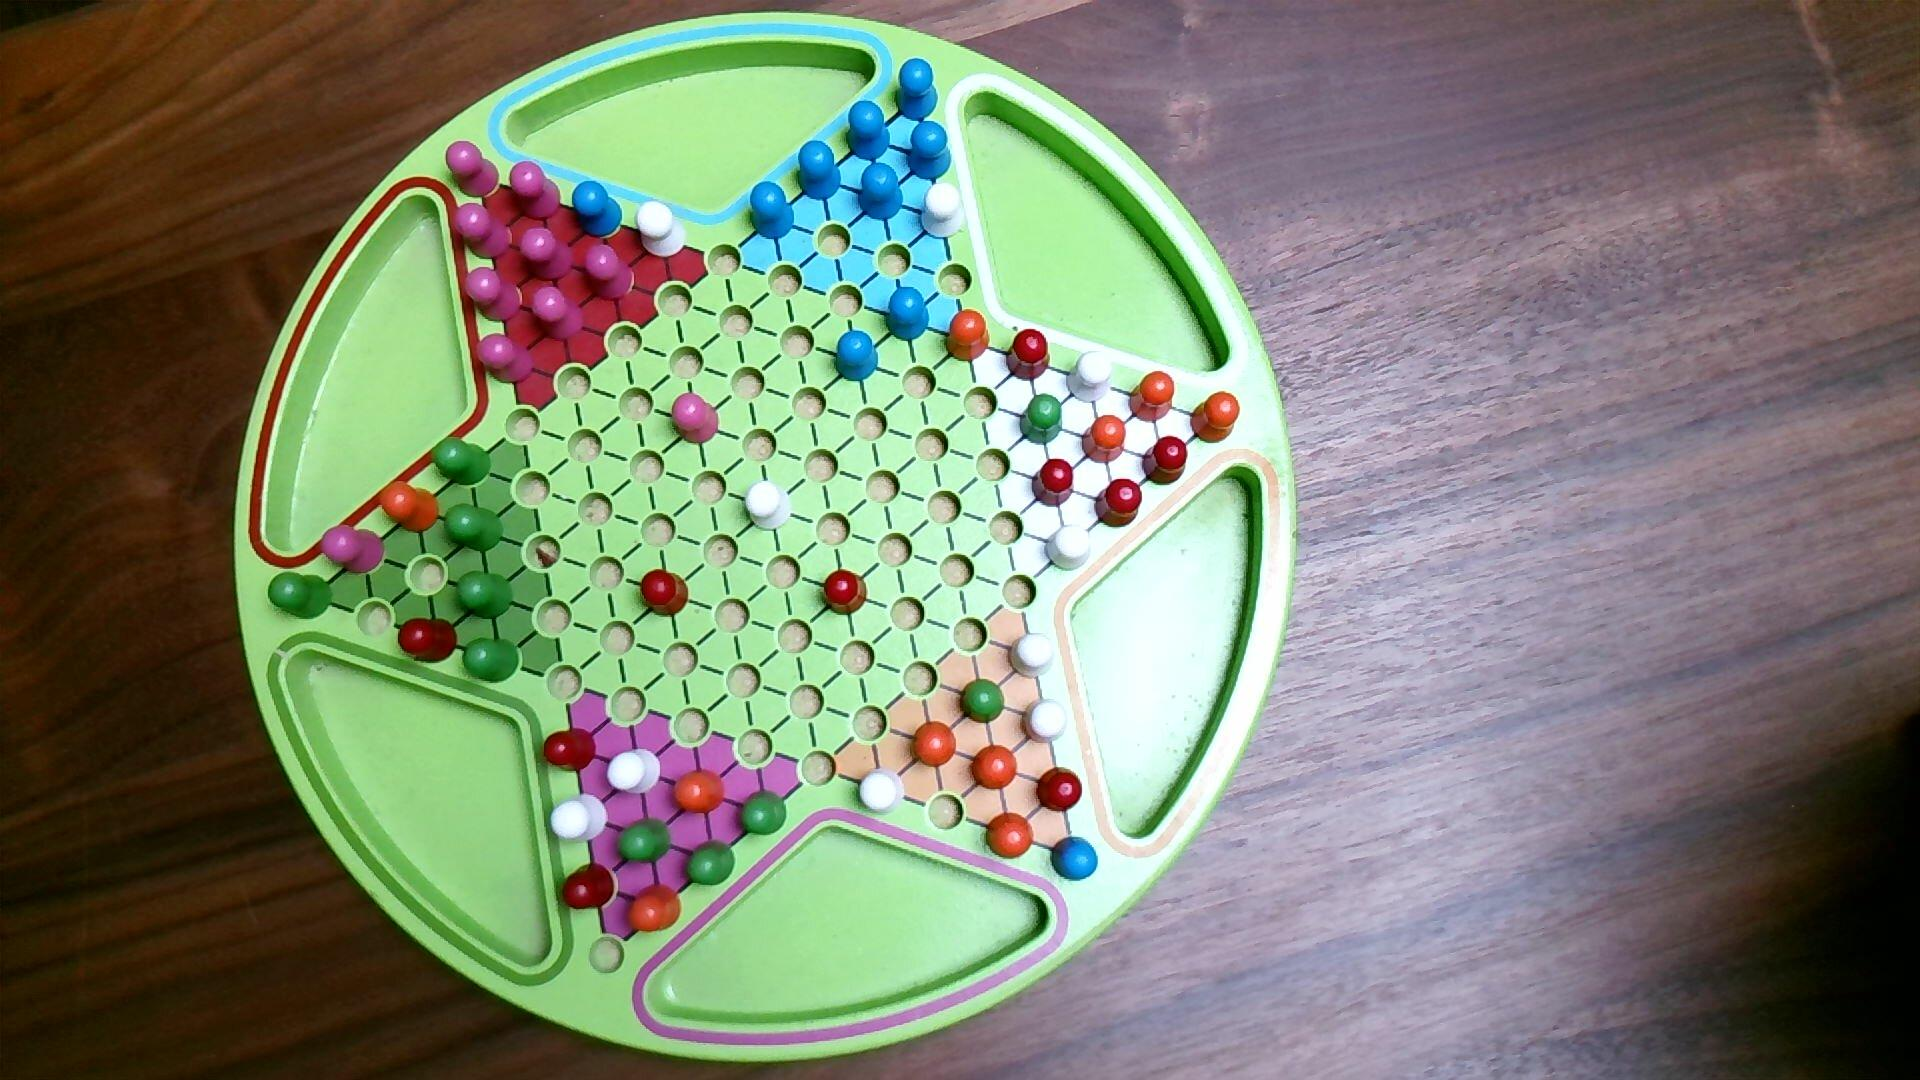B: (571, 179, 626, 241), (891, 57, 940, 124), (794, 138, 844, 203), (843, 99, 893, 164), (746, 179, 796, 243), (905, 120, 953, 183), (856, 162, 906, 223), (884, 285, 934, 344), (832, 327, 881, 384), (1048, 835, 1101, 884)
G: (429, 435, 495, 491), (266, 571, 335, 622), (443, 502, 506, 556), (454, 570, 516, 622), (462, 636, 524, 686), (615, 816, 674, 866), (683, 837, 738, 889), (1018, 392, 1065, 447), (737, 789, 789, 839), (957, 676, 1007, 727)
O: (378, 480, 442, 535), (624, 884, 684, 934), (1189, 389, 1242, 446), (669, 767, 727, 818), (943, 307, 992, 364), (1127, 369, 1176, 425), (984, 811, 1036, 861), (910, 720, 959, 770), (971, 744, 1021, 793), (1080, 414, 1127, 465)
R: (397, 617, 460, 666), (560, 862, 620, 913), (1004, 328, 1054, 384), (1093, 477, 1145, 530), (640, 567, 691, 618), (542, 727, 597, 774), (1029, 458, 1077, 510), (1141, 435, 1189, 488), (822, 568, 872, 618), (1034, 766, 1085, 815)
R2: (452, 200, 514, 262), (508, 160, 564, 224), (463, 265, 524, 324), (319, 524, 386, 576), (444, 140, 502, 200), (518, 225, 576, 284), (529, 285, 585, 343), (475, 332, 535, 386), (582, 243, 636, 303), (669, 390, 723, 447)
W: (549, 793, 611, 845), (634, 200, 688, 260), (1064, 349, 1116, 406), (605, 746, 663, 796), (920, 182, 967, 243), (742, 480, 794, 534), (853, 767, 907, 818), (1018, 698, 1069, 746), (1006, 632, 1058, 680), (1044, 524, 1093, 574)
